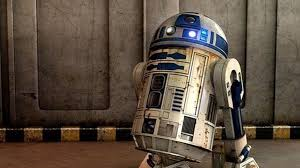r2d2: (130, 12, 259, 167)
